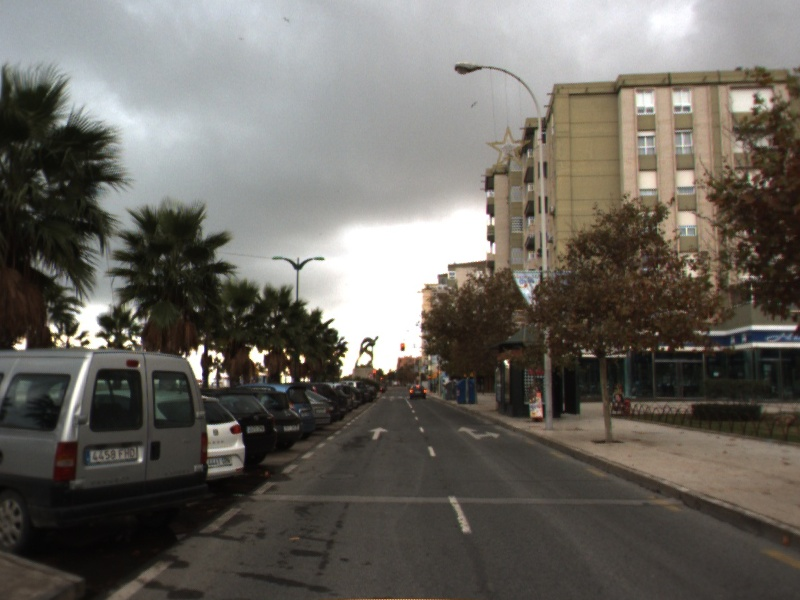STRAIGHT: (367, 425, 390, 441)
STRAIGHT_RIGHT: (456, 424, 502, 441)
